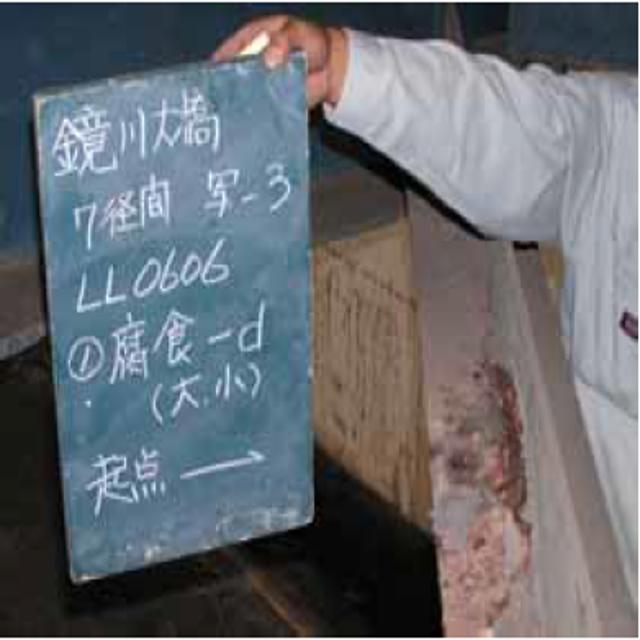corrosion: (423, 324, 533, 620)
